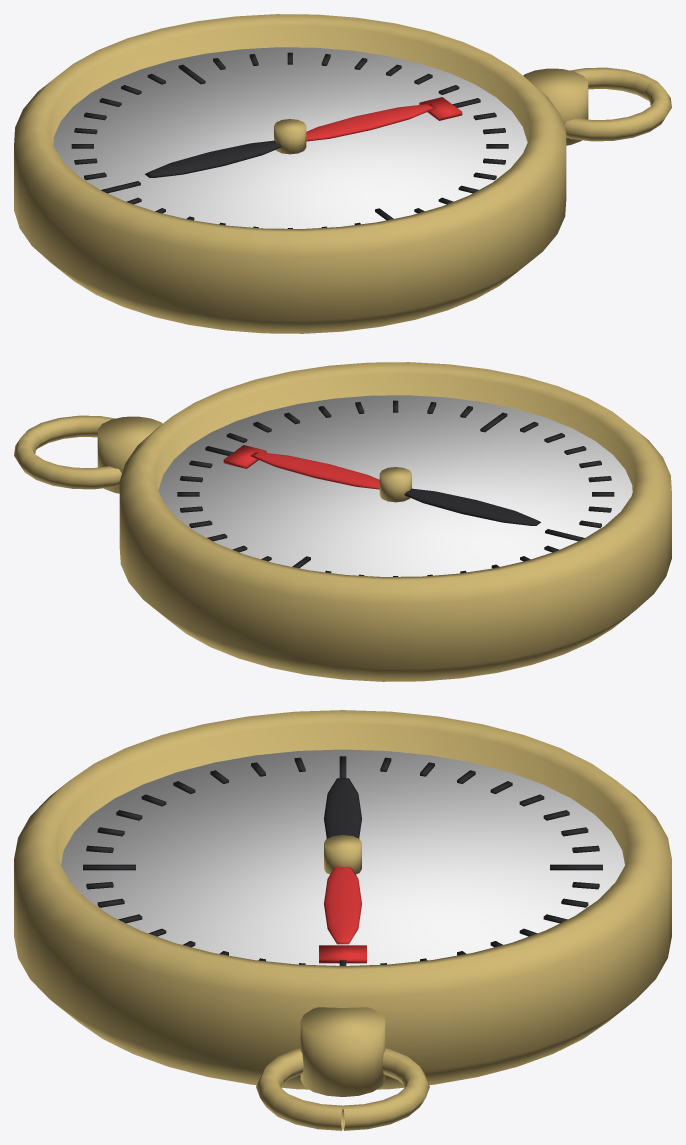
The model's file is SM_Compass.glb.
The picture shows the model from 3 angles, top to bottom: view 1: azimuth 30°, elevation 25°; view 2: azimuth 150°, elevation 25°; view 3: azimuth 270°, elevation 25°; orthographic projection. The views are drawn at different scales.
Parts seen in each view (by area): view 1: SM_Compass; view 2: SM_Compass; view 3: SM_Compass.
Boxes of the visible parts, <box> form: SM_Compass: <box>14,14,671,333</box>; SM_Compass: <box>14,362,671,681</box>; SM_Compass: <box>14,710,671,1130</box>.
Bounding box in the file's own units: 0.0792 × 0.013 × 0.062.
